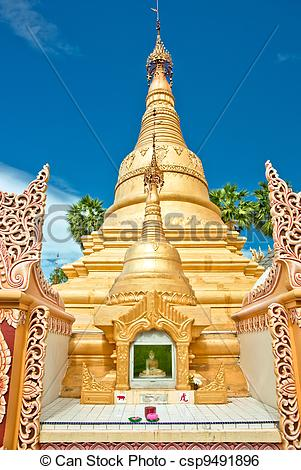Buddhist Temple: (64, 14, 249, 392)
